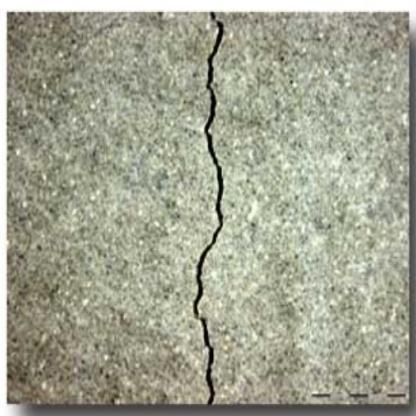Cracks: (190, 6, 230, 412)
